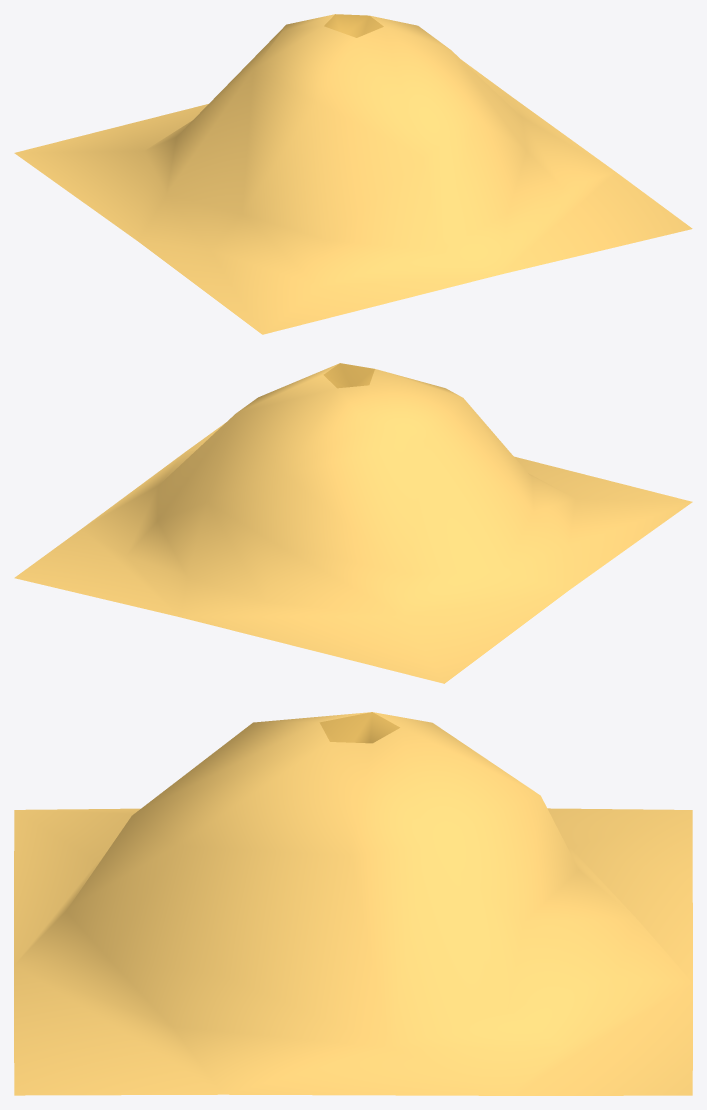
File: ac959c29-acd4-4427-b4a5-8af3467c3471.glb
3 views of the same model, one above another, from view 1: azimuth 30°, elevation 25°; view 2: azimuth 150°, elevation 25°; view 3: azimuth 270°, elevation 25° (orthographic). The views are drawn at different scales.
Parts seen in each view (by area): view 1: AntHill; view 2: AntHill; view 3: AntHill.
Part boxes in pixels (box(x1,y1,x2,y2)): AntHill: box(14, 14, 692, 334); AntHill: box(14, 363, 692, 683); AntHill: box(14, 712, 692, 1095).
Size of what is drawn, in the model's own units: 0.4896 by 0.18 by 0.4895.
Materials: 1 (1 with a texture image).
